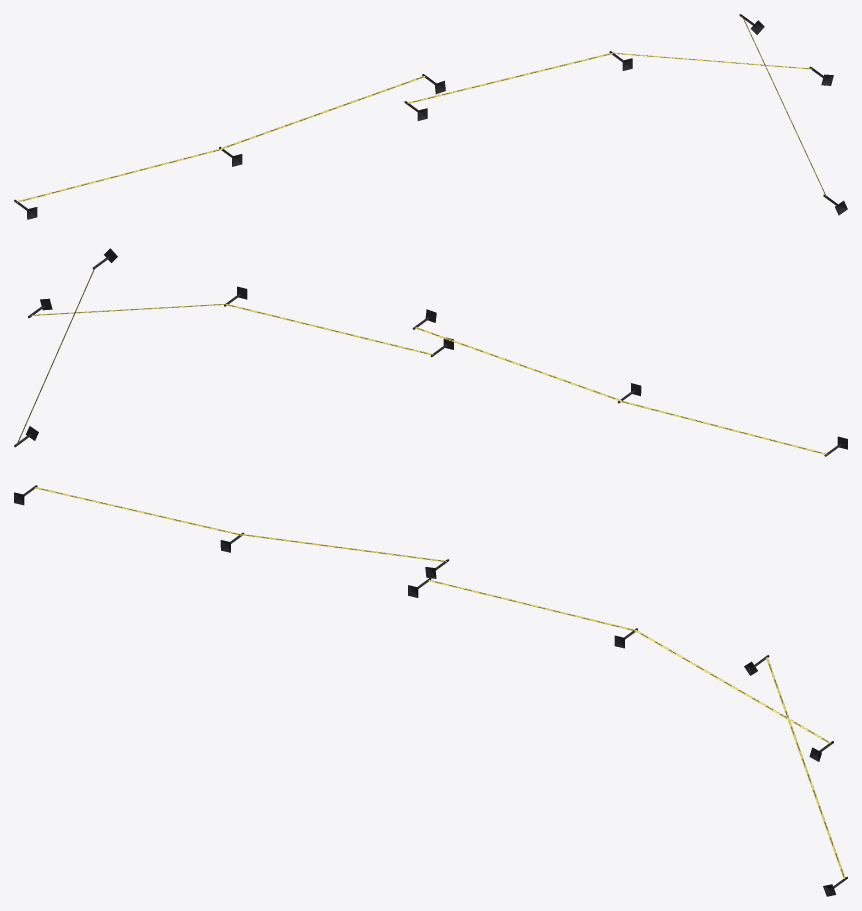
Rendered from police tape .fbx.
The picture shows the model from 3 angles, top to bottom: view 1: azimuth 30°, elevation 25°; view 2: azimuth 150°, elevation 25°; view 3: azimuth 330°, elevation 25°; orthographic projection.
Parts seen in each view (by area): view 1: Plane.007, Plane.005, Plane; view 2: Plane.007, Plane.005, Plane; view 3: no part large enough to name.
Boxes of the visible parts, x1,y1,x2,y2 form: Plane.007: (220,76,425,149); Plane.005: (16,148,222,202); Plane: (407,53,612,103); Plane.007: (415,327,621,401); Plane.005: (620,400,827,454); Plane: (226,304,433,355).
Size of the model in its own units: 3305 by 881 by 142.
2 materials, 1 textured.
